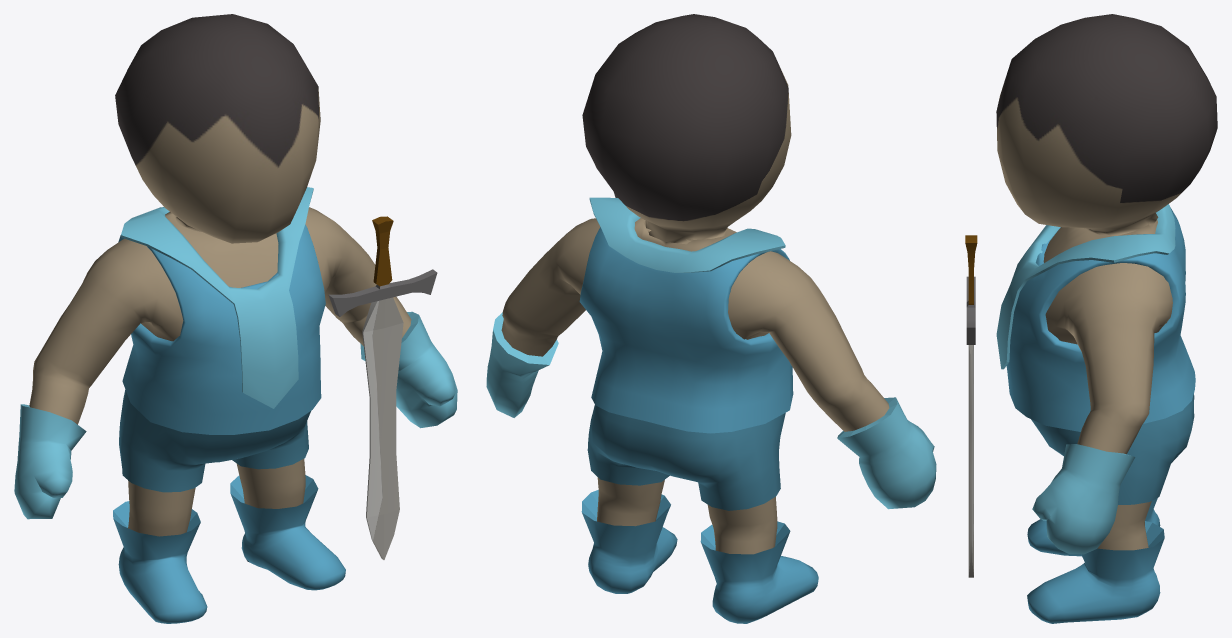
The model's file is soldier-level-1.fbx.
3 views of the same model, side by side, from view 1: azimuth 30°, elevation 25°; view 2: azimuth 150°, elevation 25°; view 3: azimuth 270°, elevation 25° (orthographic).
Parts seen in each view (by area): view 1: soldier-level-1, sword-level-1; view 2: soldier-level-1; view 3: soldier-level-1, sword-level-1.
Part boxes in pixels (<box>): soldier-level-1: <box>14,14,457,623</box>; sword-level-1: <box>328,216,437,559</box>; soldier-level-1: <box>486,14,936,623</box>; soldier-level-1: <box>996,14,1217,623</box>; sword-level-1: <box>965,235,977,577</box>.
Size of the model in its own units: 35.86 by 44.21 by 18.01.
Materials: 1 (1 with a texture image).
